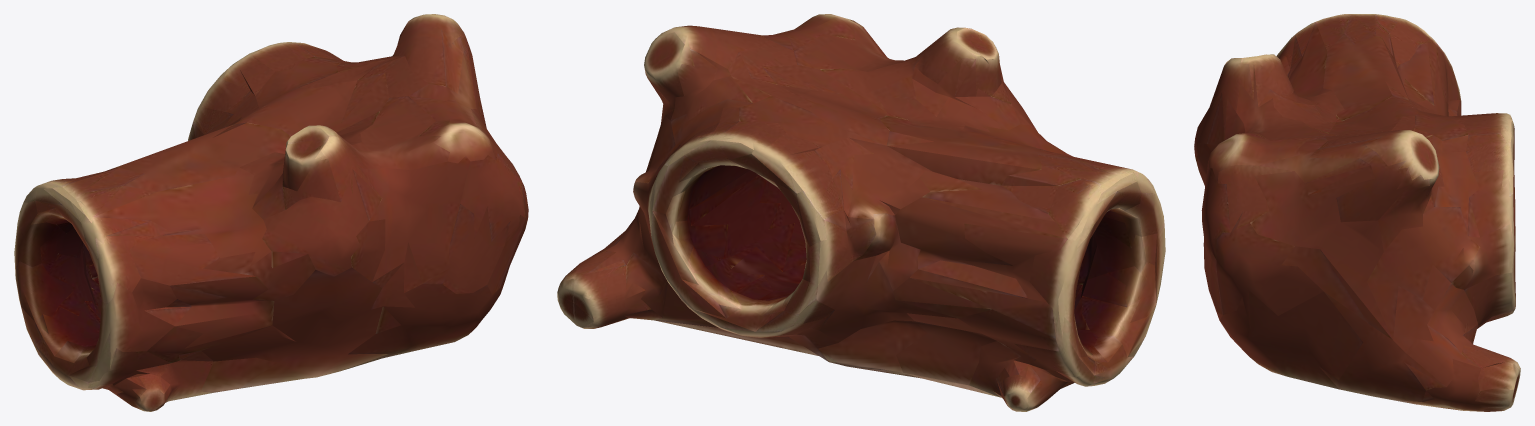
The model's file is prop-cave.glb.
The picture shows the model from 3 angles, left to right: view 1: azimuth 30°, elevation 25°; view 2: azimuth 150°, elevation 25°; view 3: azimuth 270°, elevation 25°; orthographic projection. The views are drawn at different scales.
Bounding box in the file's own units: 0.2813 × 0.15 × 0.1744.
Materials: 1 (1 with a texture image).
